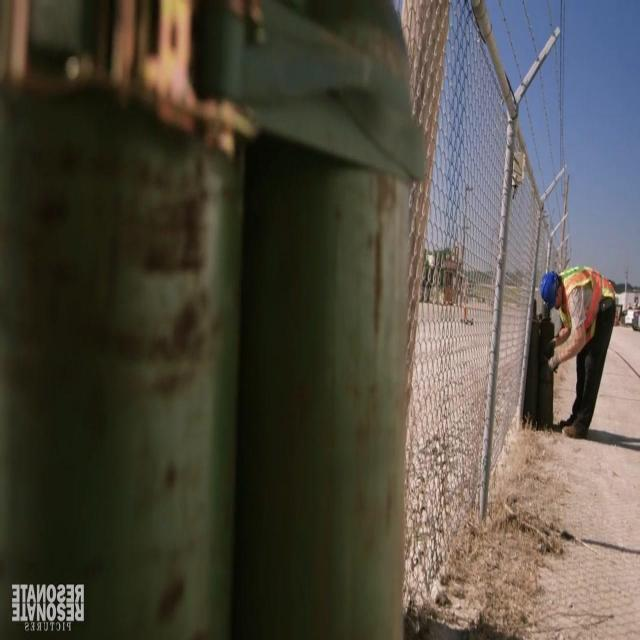Reflective-Jacket: (556, 260, 614, 358)
Safety-Helmet: (535, 264, 561, 312)
